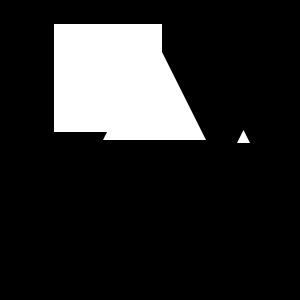circle: (54, 24, 162, 132)
triangle: (103, 37, 206, 140), (237, 130, 250, 143)
